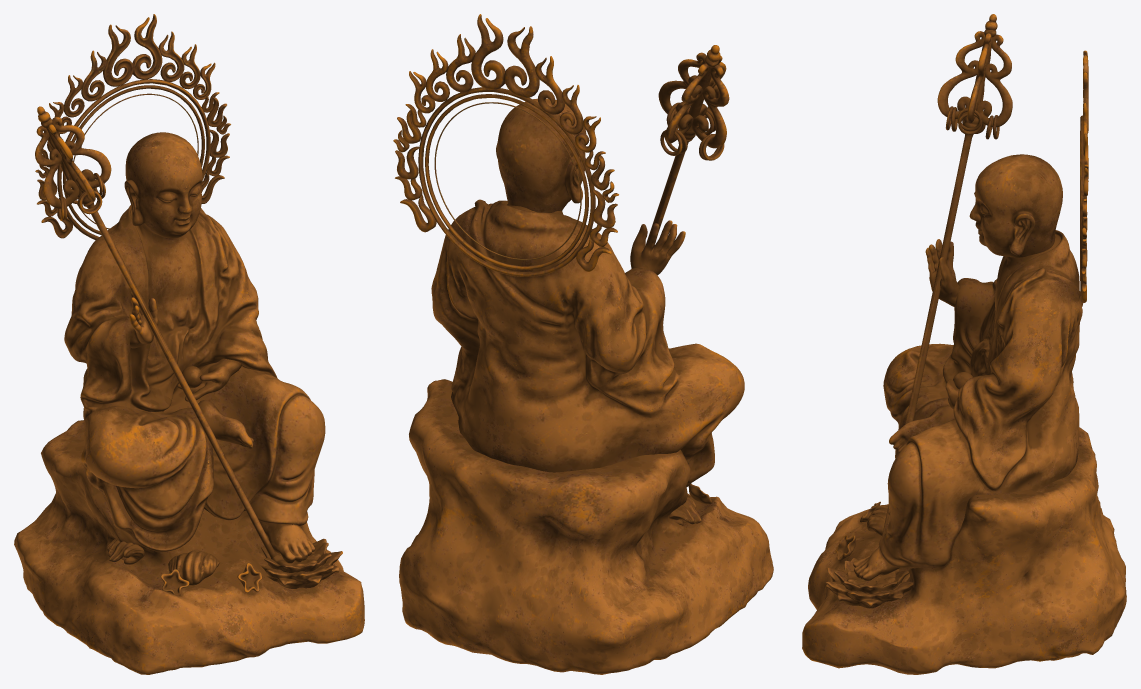
Rendered from dia-tang-4k.glb.
3 views of the same model, side by side, from view 1: azimuth 30°, elevation 25°; view 2: azimuth 150°, elevation 25°; view 3: azimuth 270°, elevation 25° (orthographic). The views are drawn at different scales.
Parts seen in each view (by area): view 1: diZangPuSa_v2022-HiPory-4K-MaterialTest; view 2: diZangPuSa_v2022-HiPory-4K-MaterialTest; view 3: diZangPuSa_v2022-HiPory-4K-MaterialTest.
Part boxes in pixels (<box>): diZangPuSa_v2022-HiPory-4K-MaterialTest: <box>14,14,364,674</box>; diZangPuSa_v2022-HiPory-4K-MaterialTest: <box>393,14,773,674</box>; diZangPuSa_v2022-HiPory-4K-MaterialTest: <box>802,14,1126,674</box>.
Size of the model in its own units: 0.5271 by 1 by 0.5289.
Materials: 1 (1 with a texture image).
